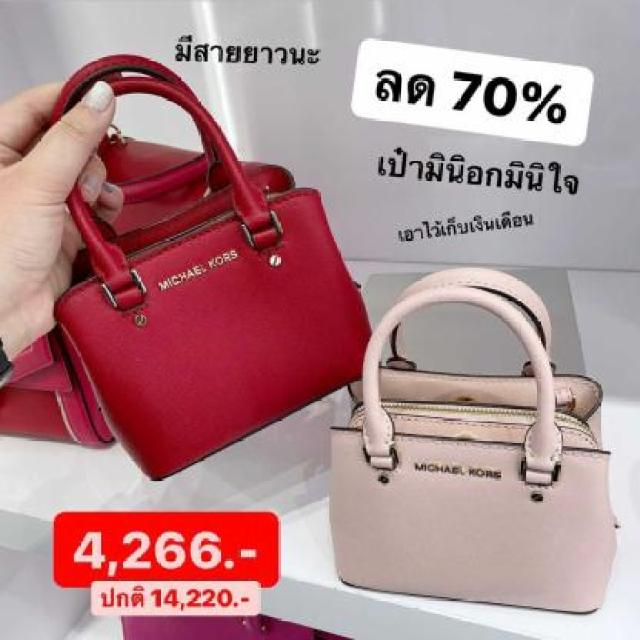Bag: (21, 42, 379, 470), (308, 229, 632, 629)
